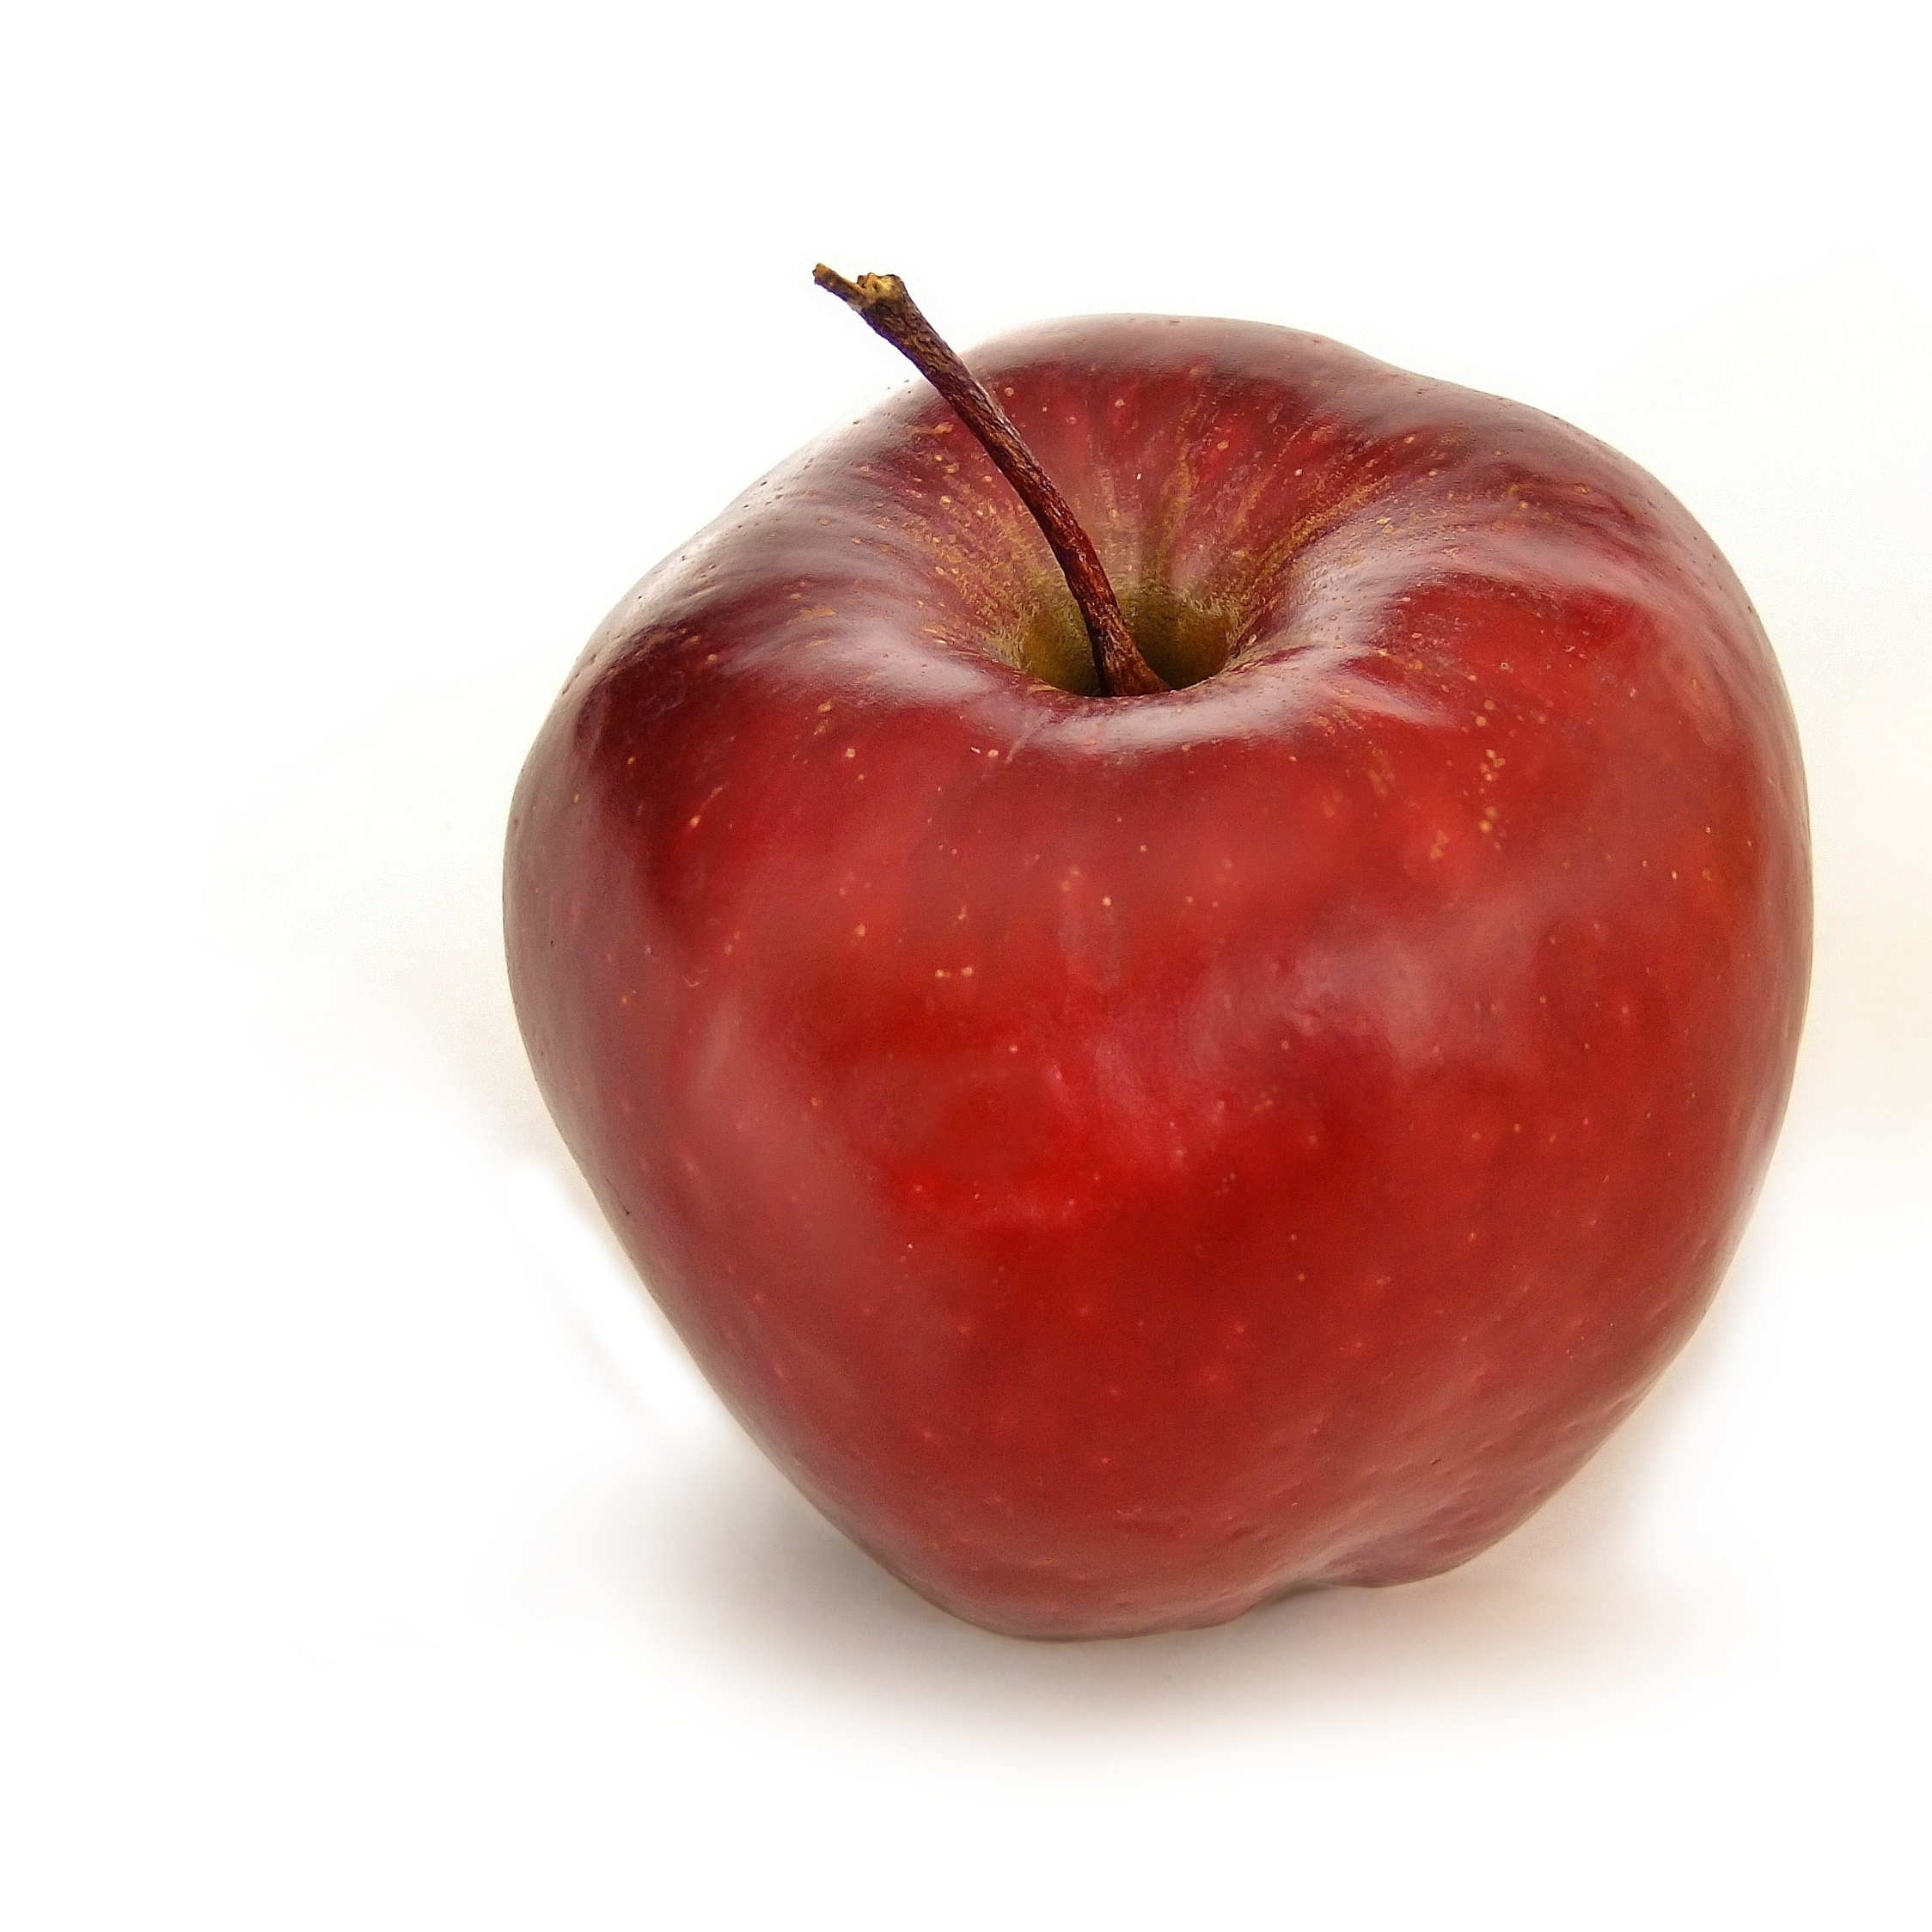apple: (485, 290, 1833, 1645)
